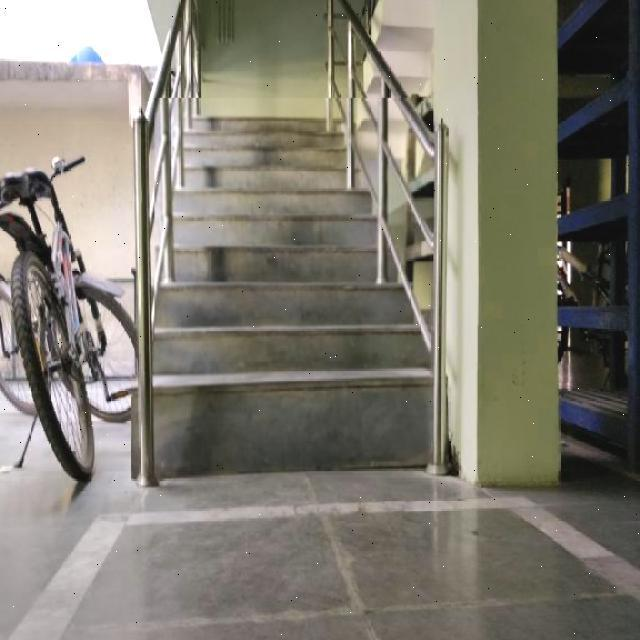stair: (156, 98, 433, 478)
